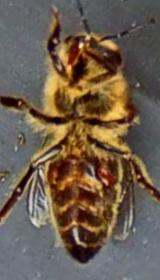varroa_mite: (88, 156, 129, 196), (35, 160, 66, 191)
